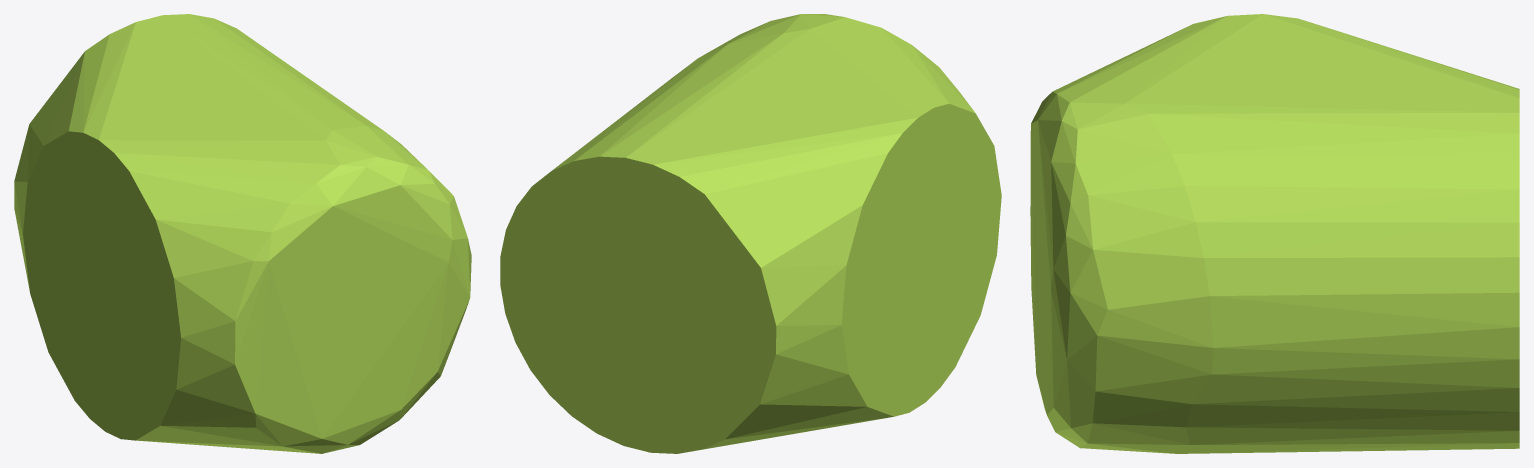
Rendered from ur3_robot_link__39__.dae.
3 views of the same model, side by side, from view 1: azimuth 30°, elevation 25°; view 2: azimuth 150°, elevation 25°; view 3: azimuth 270°, elevation 25° (orthographic). The views are drawn at different scales.
Visible parts, largest first — view 1: Node_0000014D8EC04C60; view 2: Node_0000014D8EC04C60; view 3: Node_0000014D8EC04C60.
Part boxes in pixels (x1=…): Node_0000014D8EC04C60: x1=14, y1=14, x2=471, y2=453; Node_0000014D8EC04C60: x1=500, y1=14, x2=1001, y2=453; Node_0000014D8EC04C60: x1=1030, y1=14, x2=1519, y2=453.
Bounding box in the file's own units: 0.1005 × 0.092 × 0.122.
